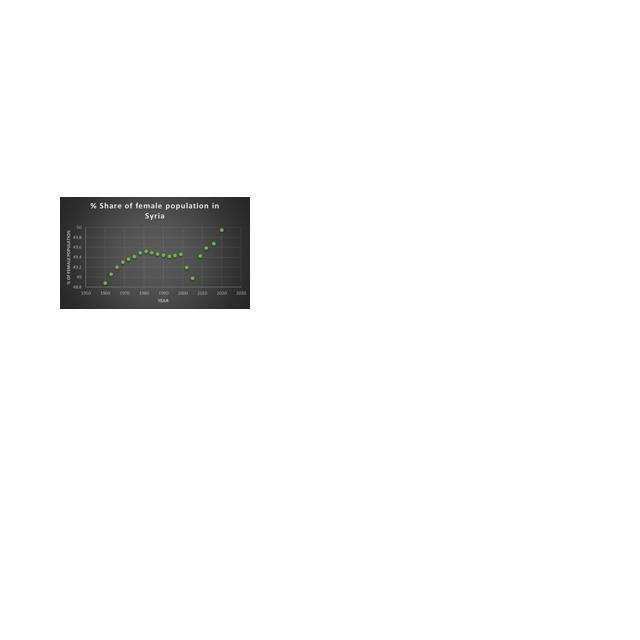Graph: (60, 197, 250, 309)
